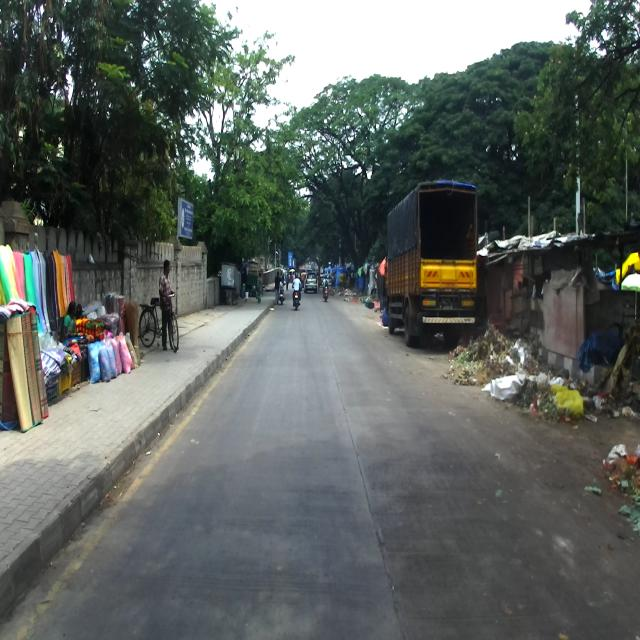bicycle ahead at: (141, 291, 181, 348)
person ahead at: (156, 258, 177, 354)
truck ahead at: (390, 178, 479, 352)
